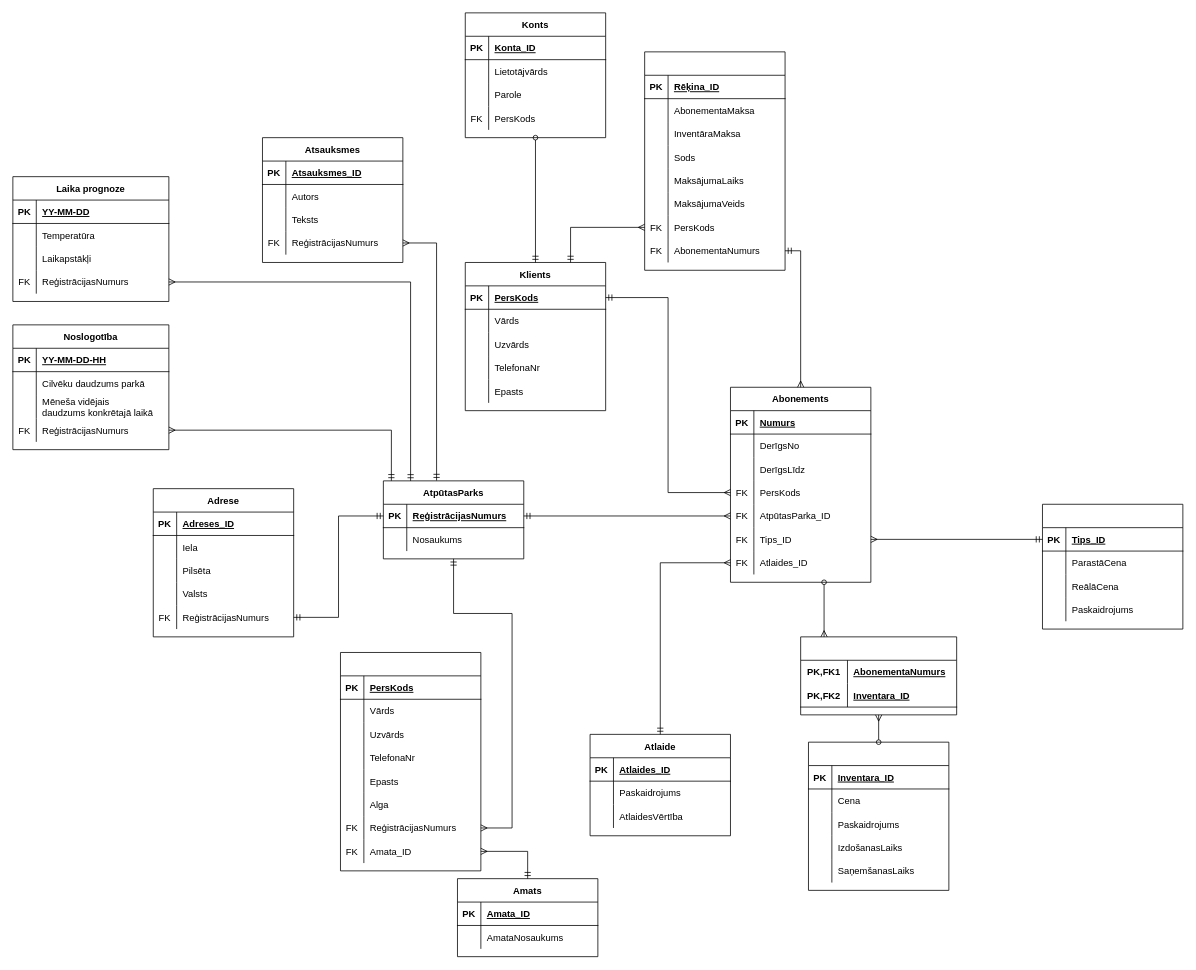
Some shapes in this 1196 by 970 pixel diagram are drawn without their labels. The shapes that lost their labels are listed below. From the top down, each one's box as (x1, y1, x2, y2) in pixels, then its label:
(644, 51, 785, 270): Rēķins
(1042, 503, 1183, 629): Cenradis
(800, 636, 957, 715): Abonements_Inventars
(340, 652, 481, 871): Darbinieki
(808, 741, 949, 890): Inventars
